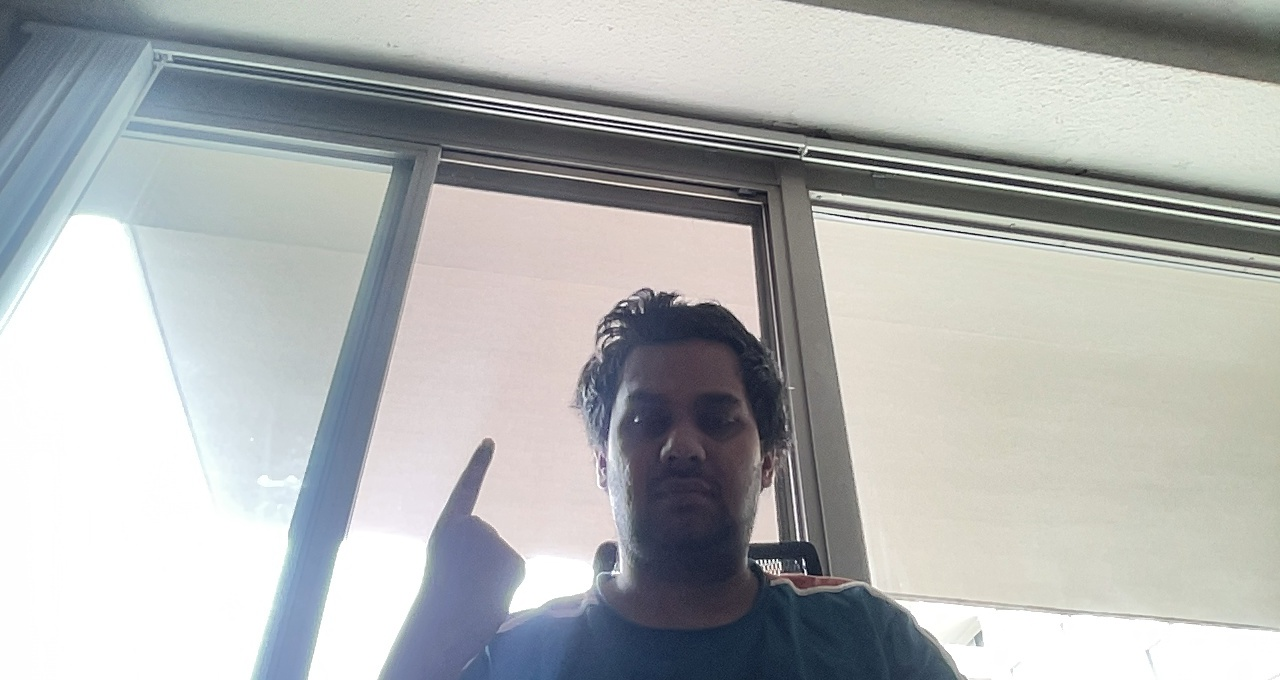fingerup: (419, 427, 532, 638)
